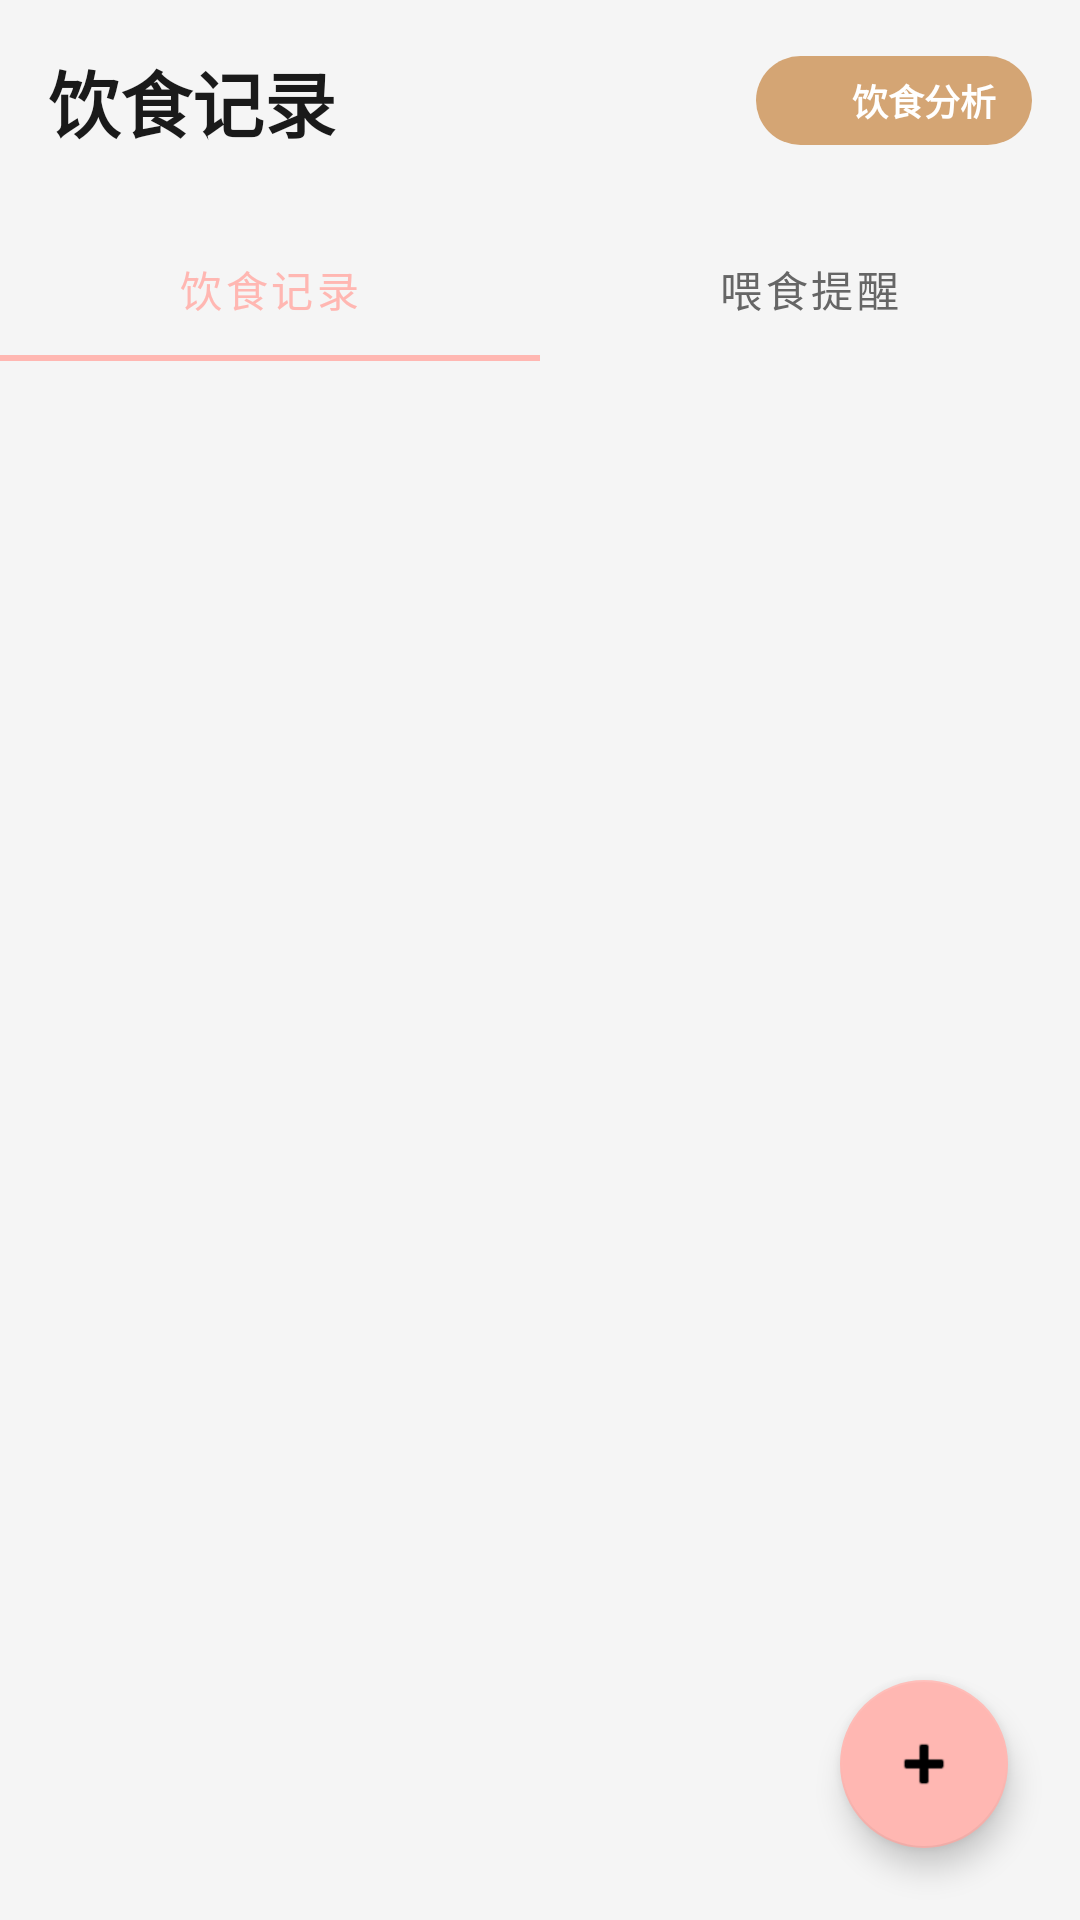

Icons on this 1080×1920 Android screen, each with its box as box(x1, y1, x2, y2):
添加记录: box(840, 1680, 1008, 1848)
